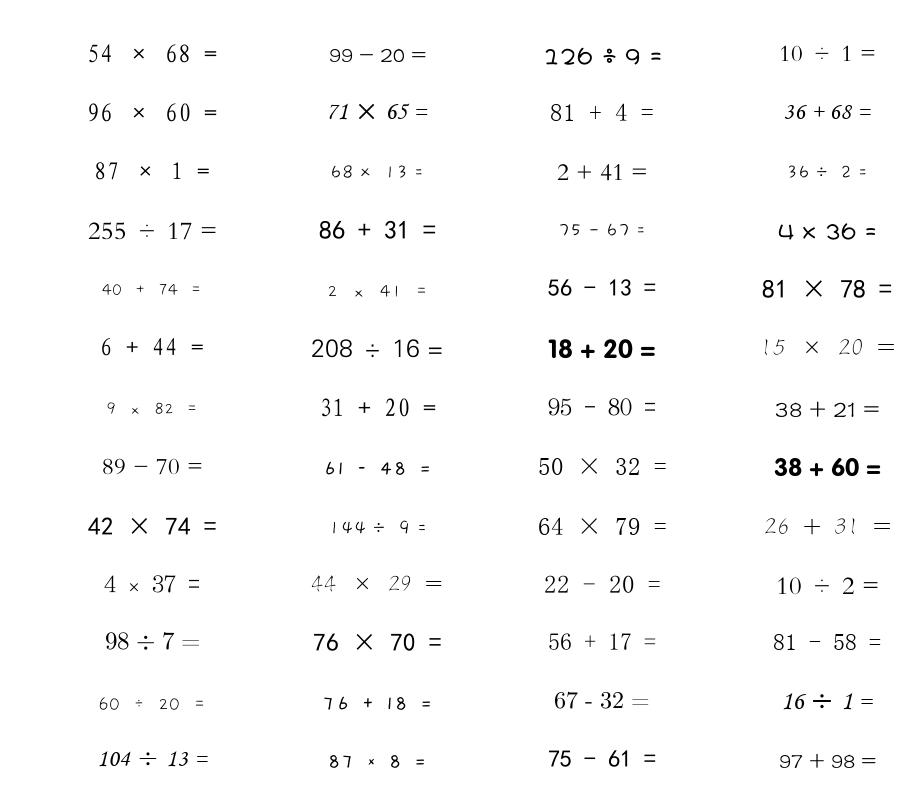MQ: (311, 339, 443, 358), (87, 44, 217, 63), (87, 103, 217, 122), (762, 279, 892, 298), (313, 633, 442, 652), (88, 222, 217, 240), (88, 517, 217, 535), (538, 517, 667, 535), (760, 339, 895, 356), (311, 575, 443, 592), (319, 220, 436, 239), (319, 398, 436, 417), (538, 458, 667, 475), (548, 339, 656, 359), (764, 518, 891, 535), (543, 47, 662, 65), (774, 457, 881, 477), (544, 575, 661, 593), (94, 162, 210, 180), (548, 398, 656, 416), (550, 103, 654, 121), (100, 338, 204, 356), (776, 577, 879, 595), (548, 279, 656, 296), (548, 633, 656, 650), (548, 750, 656, 767), (775, 401, 880, 418), (97, 751, 208, 767), (326, 103, 428, 120), (104, 575, 200, 593), (773, 634, 881, 650), (554, 691, 650, 709), (102, 458, 203, 475), (105, 632, 200, 650), (778, 223, 877, 240), (779, 45, 876, 62), (781, 693, 873, 710), (322, 696, 433, 710), (779, 753, 876, 769), (557, 164, 648, 181), (323, 461, 432, 475), (98, 697, 206, 711), (328, 520, 427, 535), (329, 48, 426, 62), (330, 165, 424, 179), (327, 285, 428, 298), (327, 755, 427, 768), (783, 105, 871, 119), (558, 223, 646, 237), (102, 284, 202, 296), (106, 402, 198, 415), (786, 165, 868, 179)
